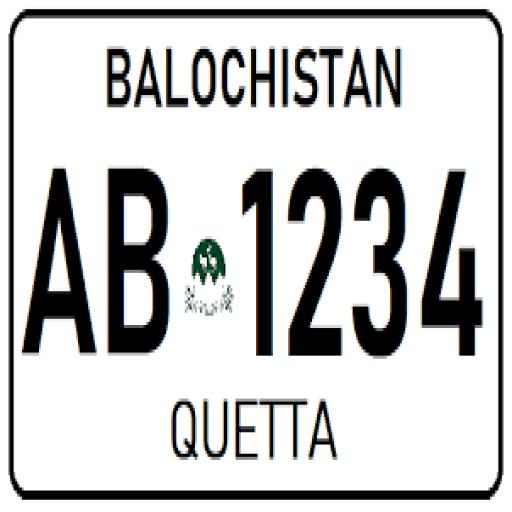1: (236, 162, 280, 368)
2: (285, 170, 351, 366)
3: (354, 172, 412, 363)
4: (422, 159, 484, 372)
A: (20, 164, 97, 376)
B: (106, 155, 174, 366)
